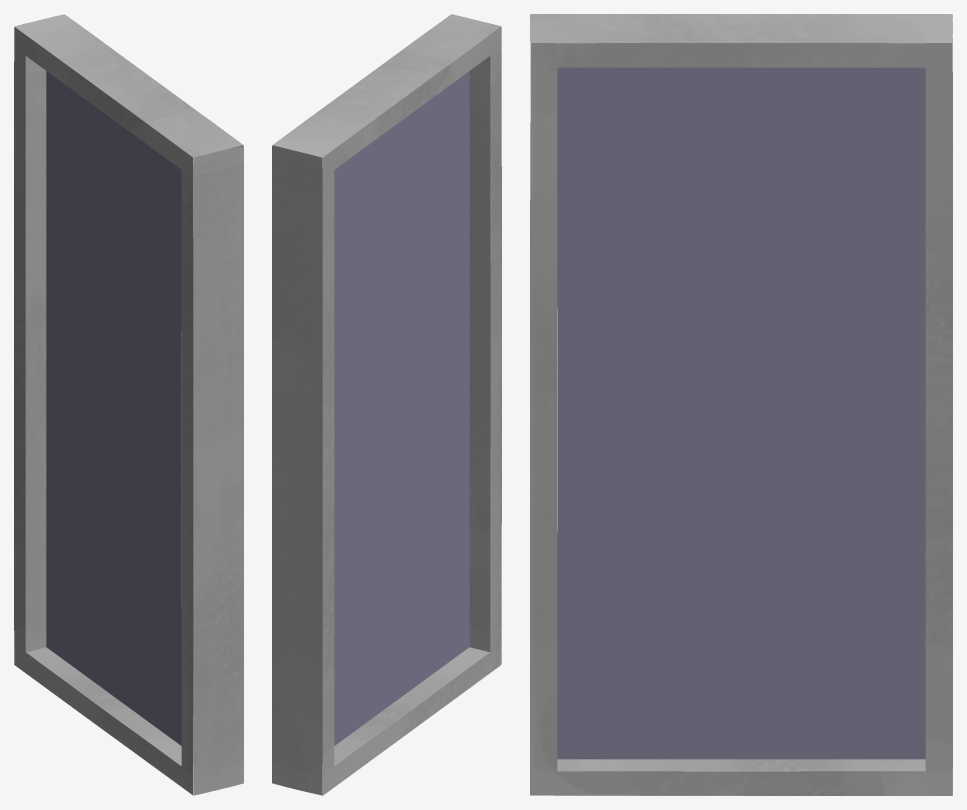
Rendered from window.fbx.
3 renders of one model, left to right at view 1: azimuth 30°, elevation 25°; view 2: azimuth 150°, elevation 25°; view 3: azimuth 270°, elevation 25°, orthographic. The views are drawn at different scales.
Visible parts, largest first — view 1: window_frame, window_glass; view 2: window_frame, window_glass; view 3: window_glass, window_frame.
Part boxes in pixels (bbox=[...]): window_frame: bbox=[14, 14, 243, 795]; window_glass: bbox=[46, 71, 201, 745]; window_frame: bbox=[272, 14, 501, 795]; window_glass: bbox=[334, 71, 469, 745]; window_glass: bbox=[557, 67, 925, 759]; window_frame: bbox=[530, 14, 952, 795].
Size of the model in its own units: 371 by 60.44 by 729.
